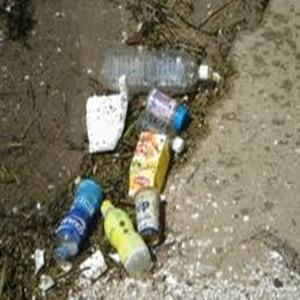Plastic: (94, 47, 216, 98), (54, 175, 103, 260), (98, 201, 155, 273)
